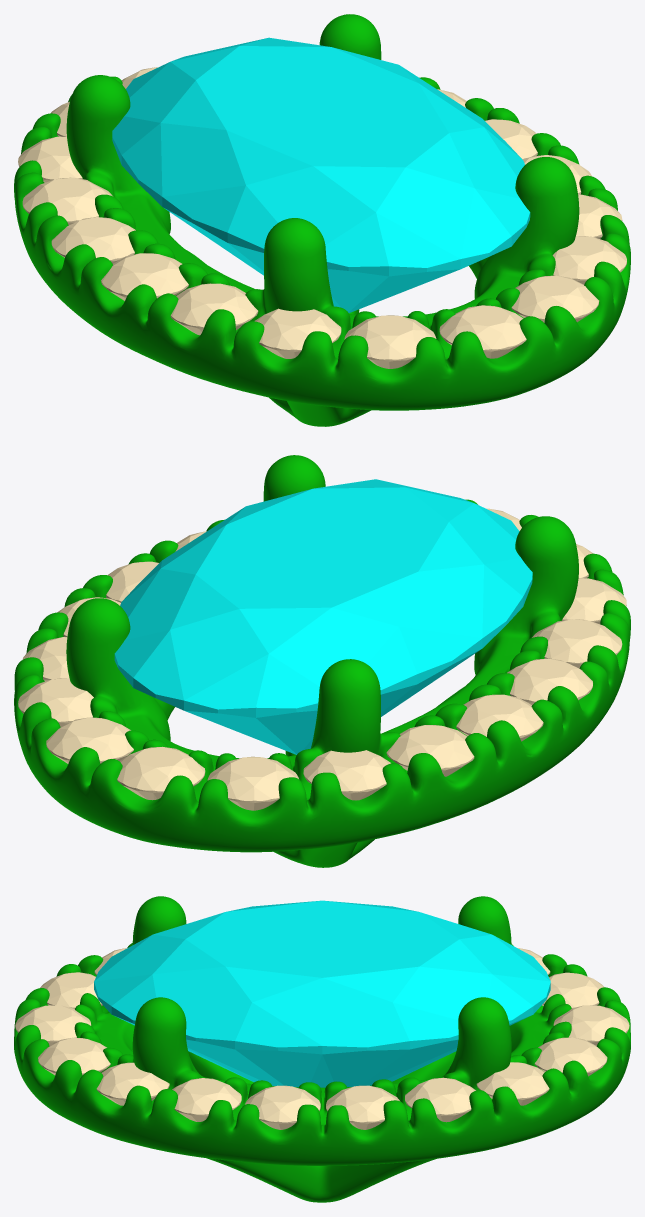
3 renders of one model, top to bottom at view 1: azimuth 30°, elevation 25°; view 2: azimuth 150°, elevation 25°; view 3: azimuth 270°, elevation 25°, orthographic. The views are drawn at different scales.
Visible parts, largest first — view 1: Diamond_Oval, Metal01, Diamond_Round.015, Diamond_Round.016, Diamond_Round.012, Diamond_Round.017, Diamond_Round.013, Diamond_Round.014, Diamond_Round.011, Diamond_Round.010, Diamond_Round, Diamond_Round.009 (+2 smaller); view 2: Diamond_Oval, Metal01, Diamond_Round.007, Diamond_Round.008, Diamond_Round.010, Diamond_Round.006, Diamond_Round.009, Diamond_Round.012, Diamond_Round.013, Diamond_Round.011, Diamond_Round.005, Diamond_Round.014 (+2 smaller); view 3: Metal01, Diamond_Oval, Diamond_Round.002, Diamond_Round.004, Diamond_Round.001, Diamond_Round.003, Diamond_Round.006, Diamond_Round.017, Diamond_Round.005, Diamond_Round.007, Diamond_Round.016, Diamond_Round (+2 smaller).
Boxes of the visible parts, <box> form: Diamond_Oval: <box>112,37,530,312</box>; Metal01: <box>14,14,630,426</box>; Diamond_Round.015: <box>344,315,436,368</box>; Diamond_Round.016: <box>439,305,526,358</box>; Diamond_Round.012: <box>101,253,188,300</box>; Diamond_Round.017: <box>511,275,599,322</box>; Diamond_Round.013: <box>170,283,258,335</box>; Diamond_Round.014: <box>254,308,341,358</box>; Diamond_Round.011: <box>51,217,135,263</box>; Diamond_Round.010: <box>22,177,112,225</box>; Diamond_Round: <box>552,236,626,284</box>; Diamond_Round.009: <box>18,136,82,182</box>; Diamond_Oval: <box>114,479,532,754</box>; Metal01: <box>14,455,630,867</box>; Diamond_Round.007: <box>117,746,205,800</box>; Diamond_Round.008: <box>207,756,298,810</box>; Diamond_Round.010: <box>386,725,474,776</box>; Diamond_Round.006: <box>46,717,133,763</box>; Diamond_Round.009: <box>303,750,390,800</box>; Diamond_Round.012: <box>507,658,592,704</box>; Diamond_Round.013: <box>532,619,622,668</box>; Diamond_Round.011: <box>456,694,543,741</box>; Diamond_Round.005: <box>18,678,93,726</box>; Diamond_Round.014: <box>562,578,626,624</box>; Metal01: <box>14,896,630,1202</box>; Diamond_Oval: <box>94,900,550,1087</box>; Diamond_Round.002: <box>245,1085,320,1129</box>; Diamond_Round.004: <box>405,1077,475,1122</box>; Diamond_Round.001: <box>172,1078,241,1121</box>; Diamond_Round.003: <box>326,1085,399,1129</box>; Diamond_Round.006: <box>534,1037,607,1076</box>; Diamond_Round.017: <box>38,1037,110,1075</box>; Diamond_Round.005: <box>476,1062,549,1105</box>; Diamond_Round.007: <box>553,1005,629,1045</box>; Diamond_Round.016: <box>15,1005,91,1045</box>; Diamond_Round: <box>96,1062,169,1105</box>.
Bounding box in the file's own units: 10.49 × 6.4 × 13.85.
